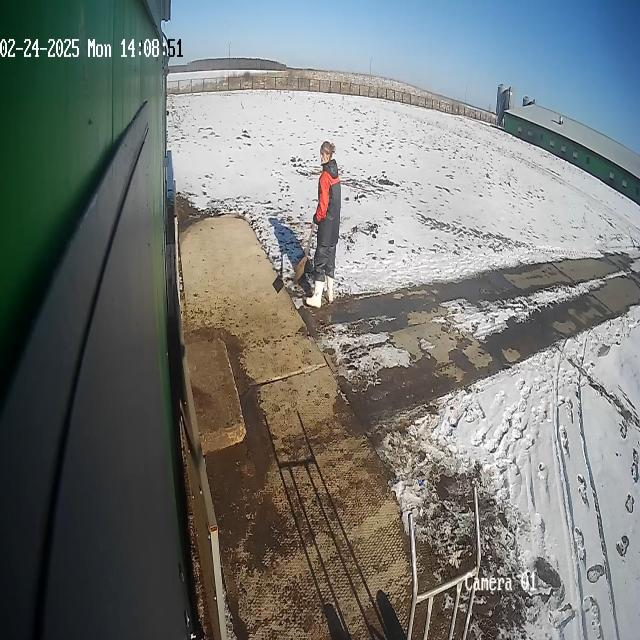Red uniform: (303, 139, 342, 311)
